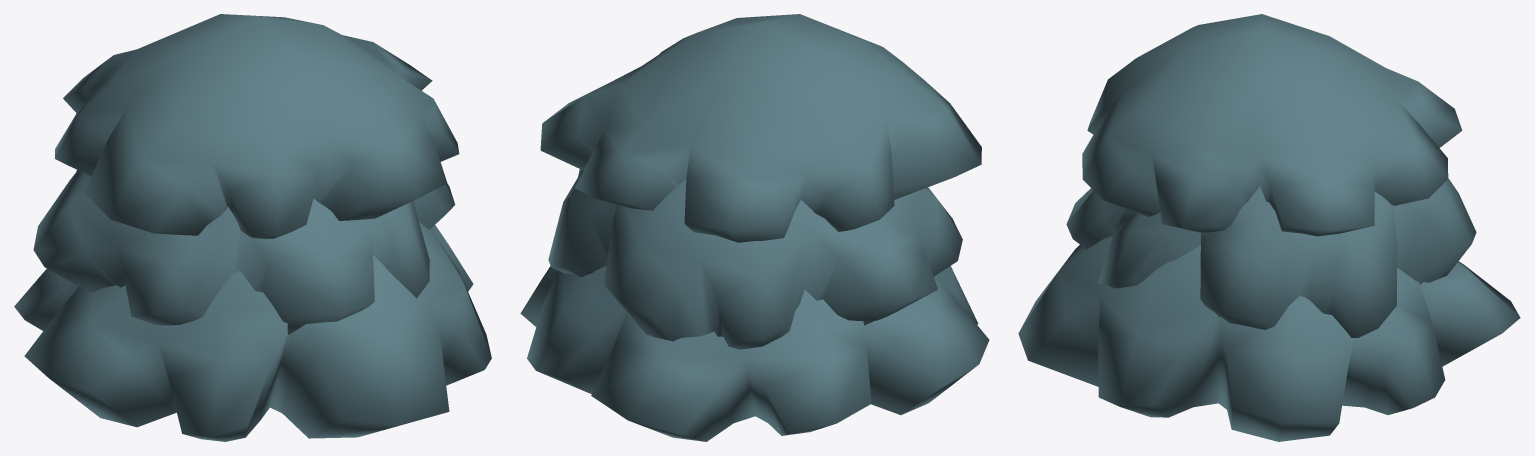
The model's file is Bush_B_01_LOD2.gltf.
3 views of the same model, side by side, from view 1: azimuth 30°, elevation 25°; view 2: azimuth 150°, elevation 25°; view 3: azimuth 270°, elevation 25° (orthographic). The views are drawn at different scales.
Parts seen in each view (by area): view 1: Bush_B_01_LOD2_Cube.768; view 2: Bush_B_01_LOD2_Cube.768; view 3: Bush_B_01_LOD2_Cube.768.
Part boxes in pixels (box(x1,y1,x2,y2)): Bush_B_01_LOD2_Cube.768: box(14, 14, 491, 441); Bush_B_01_LOD2_Cube.768: box(520, 14, 989, 441); Bush_B_01_LOD2_Cube.768: box(1018, 14, 1520, 441).
Size of the model in its own units: 4.77 by 3.83 by 5.15.
1 material, 1 textured.
